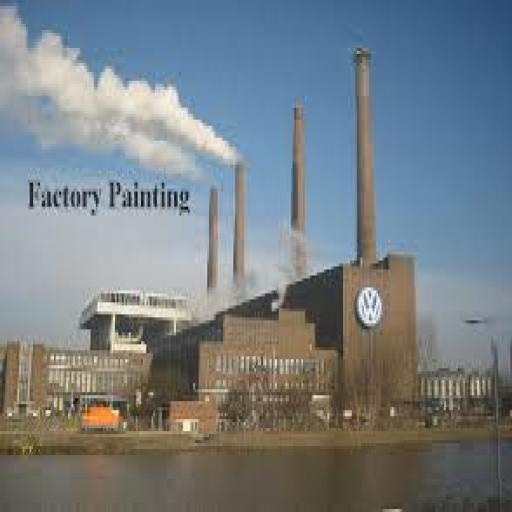smoke: (2, 6, 237, 186)
